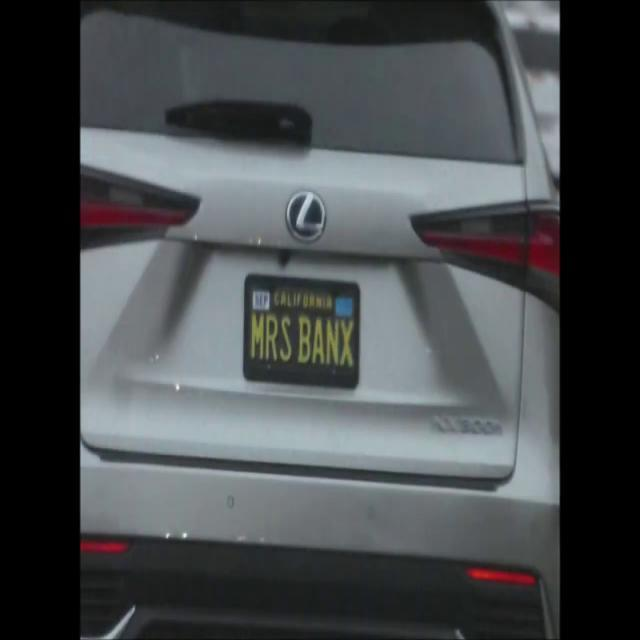licenseplate: (246, 276, 360, 386)
